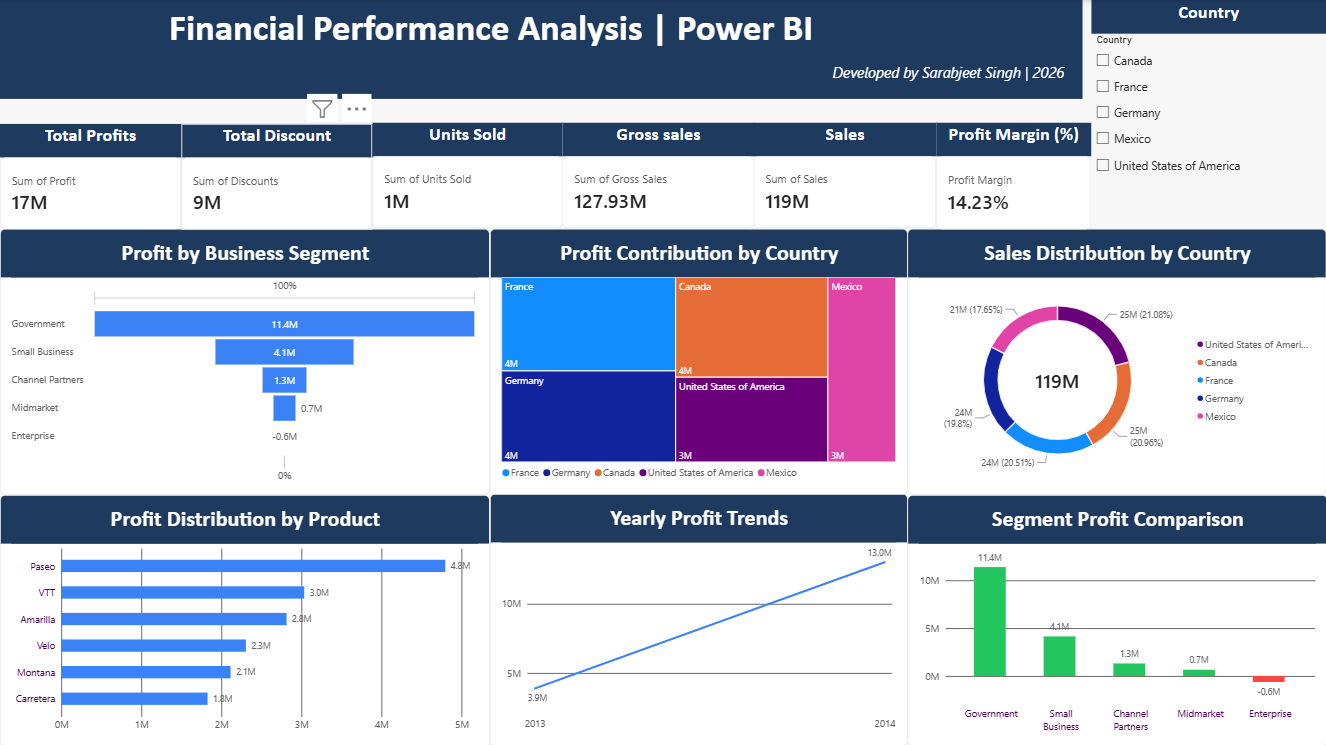

The dashboard page shown, as its layout file describes it:
{"tool":"powerbi","page":{"name":"Financial Performance Dashboard","canvas":[1920,1080],"ordinal":1},"visuals":[{"type":"textbox","box":[0,0,1567.2,143],"z":0},{"type":"clusteredColumnChart","title":"Segment Profit Comparison","fields":{"Category":["financials.Segment"],"Y":["Sum(financials.Profit)"]},"box":[1313.2,715.8,607.9,363.2],"z":1000},{"type":"donutChart","title":"Sales Distribution by Country","fields":{"Category":["financials.Country"],"Y":["Sum(financials.Sales)"]},"box":[1313.3,331.1,606.7,384.4],"z":2000},{"type":"lineChart","title":"Yearly Profit Trends","fields":{"Category":["financials.Date.Variation.Date Hierarchy.Year"],"Y":["Sum(financials.Profit)"]},"box":[708.9,715.6,604.4,364.4],"z":3000},{"type":"clusteredBarChart","title":" Profit Distribution by Product","fields":{"Category":["financials.Product"],"Y":["Sum(financials.Profit)"]},"box":[0,716.6,708.9,364.4],"z":4000},{"type":"treemap","title":"Profit Contribution by Country","fields":{"Group":["financials.Country"],"Values":["Sum(financials.Profit)"]},"box":[708.9,331.1,604.4,384.4],"z":5000},{"type":"funnel","title":"Profit by Business Segment","fields":{"Category":["financials.Segment"],"Y":["Sum(financials.Profit)"]},"box":[0,331.1,708.9,384.4],"z":6000},{"type":"cardVisual","title":"Total Profits","fields":{"Data":["Sum(financials.Profit)"]},"box":[0,180,262.2,153.3],"z":7000},{"type":"cardVisual","title":"Total Discount","fields":{"Data":["Sum(financials.Discounts)"]},"box":[262.4,179.2,277.8,153.3],"z":8000},{"type":"slicer","title":"Country","fields":{"Values":["financials.Country"]},"box":[1579.8,0,340,331.1],"z":9000},{"type":"cardVisual","title":"Units Sold","fields":{"Data":["Sum(financials.Units Sold)"]},"box":[539.3,177.3,275.6,153.3],"z":10000},{"type":"cardVisual","title":"Gross sales","fields":{"Data":["Sum(financials.Gross Sales)"]},"box":[814.3,177.3,277.8,153.3],"z":11000},{"type":"cardVisual","title":"Sales","fields":{"Data":["Sum(financials.Sales)"]},"box":[1091.2,177.3,264.4,153.3],"z":12000},{"type":"cardVisual","title":"Profit Margin (%)","fields":{"Data":["financials.Profit Margin"]},"box":[1355.4,177.3,224.4,155.6],"z":12001}]}

Visuals, with their boxes in screenshot pixels (x1, y1, x2, y2), scaled from the page's 1920x1080 canvas onto the 1326x745 screenshot:
textbox: pyautogui.locateOnScreen(0, 0, 1082, 99)
"Segment Profit Comparison" clusteredColumnChart: pyautogui.locateOnScreen(907, 494, 1325, 744)
"Sales Distribution by Country" donutChart: pyautogui.locateOnScreen(907, 228, 1325, 494)
"Yearly Profit Trends" lineChart: pyautogui.locateOnScreen(490, 494, 907, 744)
" Profit Distribution by Product" clusteredBarChart: pyautogui.locateOnScreen(0, 494, 490, 744)
"Profit Contribution by Country" treemap: pyautogui.locateOnScreen(490, 228, 907, 494)
"Profit by Business Segment" funnel: pyautogui.locateOnScreen(0, 228, 490, 494)
"Total Profits" cardVisual: pyautogui.locateOnScreen(0, 124, 181, 230)
"Total Discount" cardVisual: pyautogui.locateOnScreen(181, 124, 373, 229)
"Country" slicer: pyautogui.locateOnScreen(1091, 0, 1325, 228)
"Units Sold" cardVisual: pyautogui.locateOnScreen(372, 122, 563, 228)
"Gross sales" cardVisual: pyautogui.locateOnScreen(562, 122, 754, 228)
"Sales" cardVisual: pyautogui.locateOnScreen(754, 122, 936, 228)
"Profit Margin (%)" cardVisual: pyautogui.locateOnScreen(936, 122, 1091, 230)
